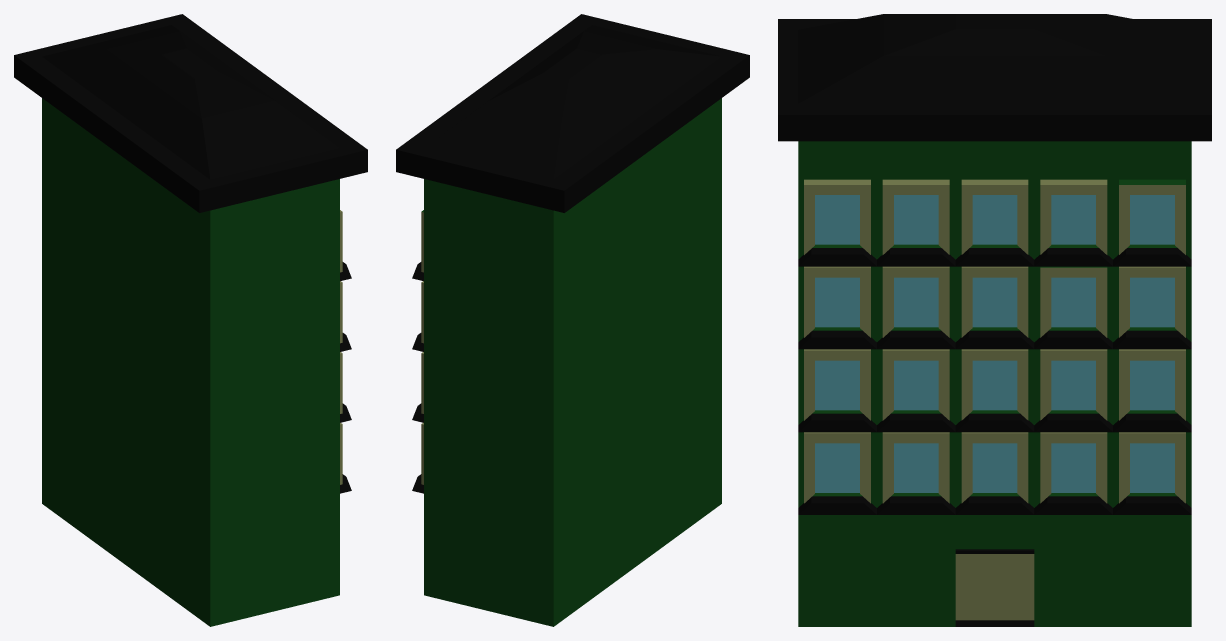
The model's file is house_4.fbx.
The picture shows the model from 3 angles, left to right: view 1: azimuth 30°, elevation 25°; view 2: azimuth 150°, elevation 25°; view 3: azimuth 270°, elevation 25°; orthographic projection. The views are drawn at different scales.
Parts seen in each view (by area): view 1: Building2; view 2: Building2; view 3: Building2.
Boxes of the visible parts, x1,y1,x2,y2 form: Building2: (14,14,367,626); Building2: (396,14,749,626); Building2: (778,14,1211,626).
Bounding box in the file's own units: 260 × 717 × 496.
